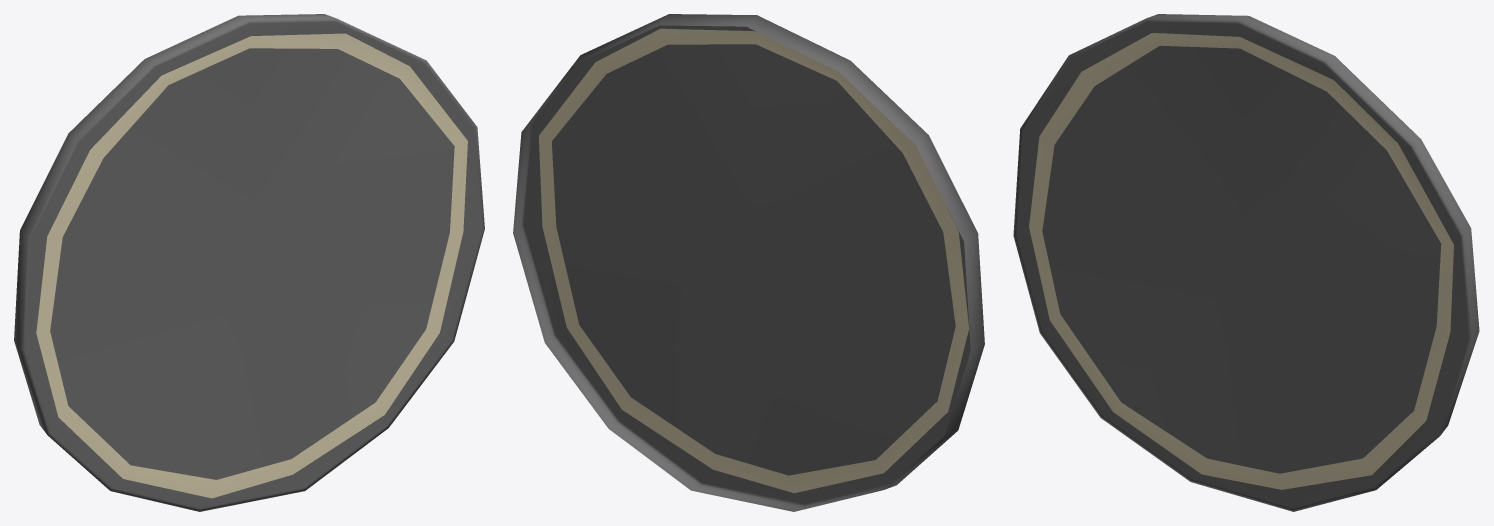
Rendered from ui_order.glb.
3 views of the same model, side by side, from view 1: azimuth 30°, elevation 25°; view 2: azimuth 150°, elevation 25°; view 3: azimuth 330°, elevation 25° (orthographic).
Parts seen in each view (by area): view 1: Cylinder; view 2: Cylinder; view 3: Cylinder.
Part boxes in pixels (<box>): Cylinder: <box>14,14,484,511</box>; Cylinder: <box>513,14,984,511</box>; Cylinder: <box>1013,14,1479,511</box>.
Bounding box in the file's own units: 1.87 × 1.86 × 0.0844.
